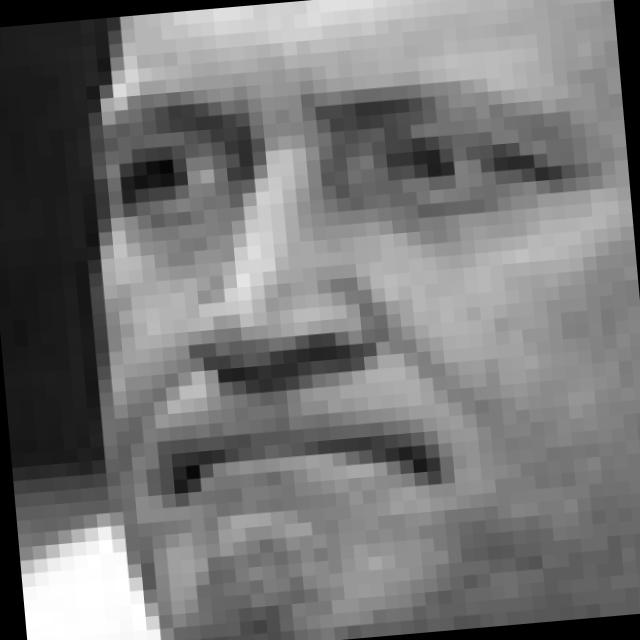sad: (99, 41, 622, 558)
